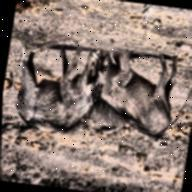boar: (83, 48, 192, 144), (2, 39, 105, 140)
